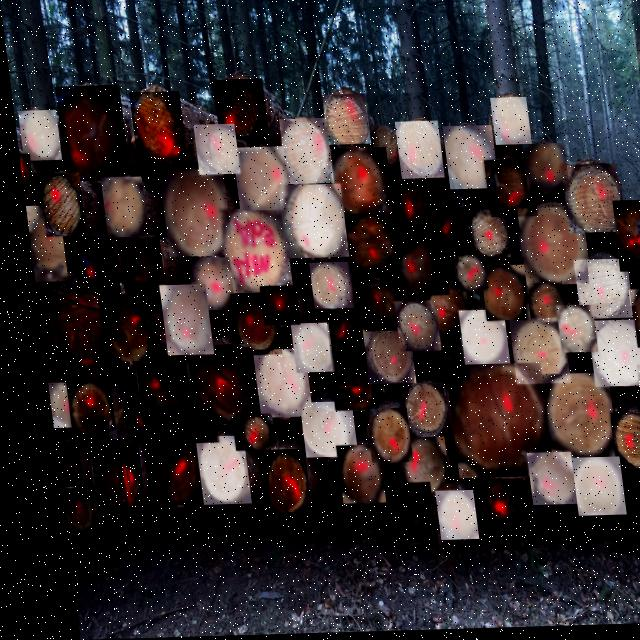wood-log: (435, 365, 542, 481), (28, 276, 100, 387), (53, 86, 126, 182), (154, 169, 227, 258), (531, 376, 606, 462), (213, 209, 286, 295), (178, 345, 250, 426), (511, 210, 584, 289), (273, 186, 342, 260), (126, 92, 184, 172), (324, 149, 389, 219), (130, 432, 190, 507), (556, 167, 618, 236), (90, 293, 150, 363), (578, 323, 640, 390), (243, 350, 302, 420), (78, 439, 133, 514), (500, 321, 560, 387), (340, 215, 400, 280), (125, 346, 181, 415), (152, 285, 205, 356), (184, 437, 238, 506), (228, 148, 286, 212), (567, 262, 627, 322), (439, 128, 494, 192), (276, 120, 329, 186), (211, 80, 265, 141), (289, 403, 346, 459), (559, 460, 613, 519), (20, 205, 61, 282), (249, 450, 298, 514), (372, 484, 423, 545), (479, 162, 532, 220), (388, 241, 441, 299), (223, 295, 273, 356), (387, 439, 439, 497), (34, 173, 81, 237), (354, 330, 406, 387), (324, 446, 373, 506), (57, 382, 106, 442), (391, 124, 440, 183), (96, 177, 143, 238), (66, 236, 113, 295), (450, 312, 500, 367), (473, 268, 522, 324), (384, 183, 430, 240), (514, 455, 563, 508), (392, 385, 439, 440), (112, 238, 158, 294), (355, 410, 401, 465), (320, 360, 368, 412), (319, 96, 367, 147), (181, 258, 227, 311), (598, 414, 640, 471), (607, 203, 640, 275), (467, 481, 515, 530), (351, 283, 398, 333), (386, 303, 432, 354), (190, 125, 236, 176), (518, 147, 564, 196), (422, 210, 465, 261), (15, 110, 58, 161), (418, 287, 462, 336), (282, 324, 325, 374), (422, 492, 465, 542), (302, 264, 347, 311), (462, 212, 504, 261), (318, 312, 360, 360), (548, 308, 589, 356), (487, 100, 528, 148), (417, 338, 459, 384), (112, 400, 149, 446), (49, 488, 83, 536), (252, 287, 292, 327), (221, 415, 264, 452), (520, 286, 557, 326), (170, 406, 208, 444), (446, 256, 480, 295), (44, 441, 71, 487), (622, 292, 640, 351), (38, 383, 61, 428), (627, 368, 640, 430), (15, 154, 29, 194)
